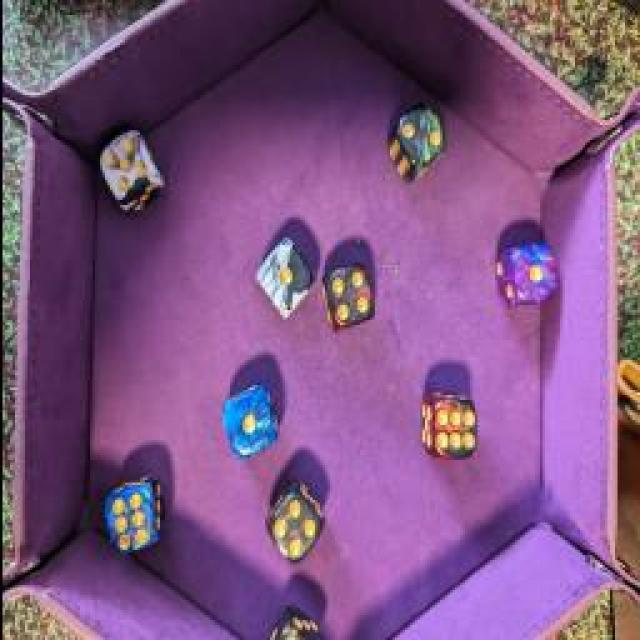dice_1: (214, 378, 278, 464), (489, 232, 559, 310), (252, 230, 312, 320)
dice_2: (388, 100, 448, 185)
dice_4: (262, 482, 322, 566), (319, 256, 376, 334)
dice_5: (92, 124, 162, 224)
dice_6: (98, 472, 162, 562), (418, 384, 478, 468)
